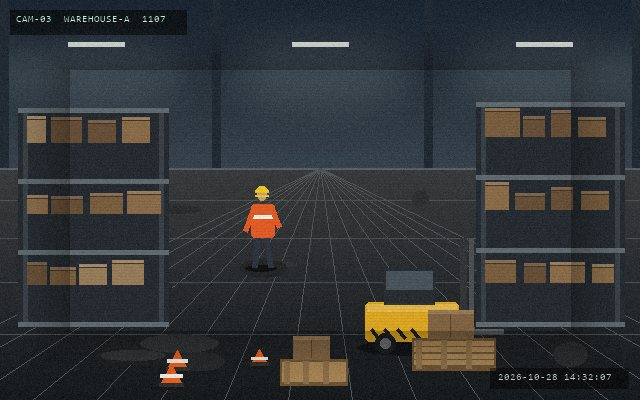cone: (158, 362, 184, 389), (165, 348, 189, 373), (249, 347, 269, 368)
forklift: (361, 236, 506, 355)
pallet: (410, 336, 497, 372), (278, 357, 349, 387)
person: (244, 184, 281, 270)
shelf: (476, 102, 624, 322), (18, 108, 168, 322)
